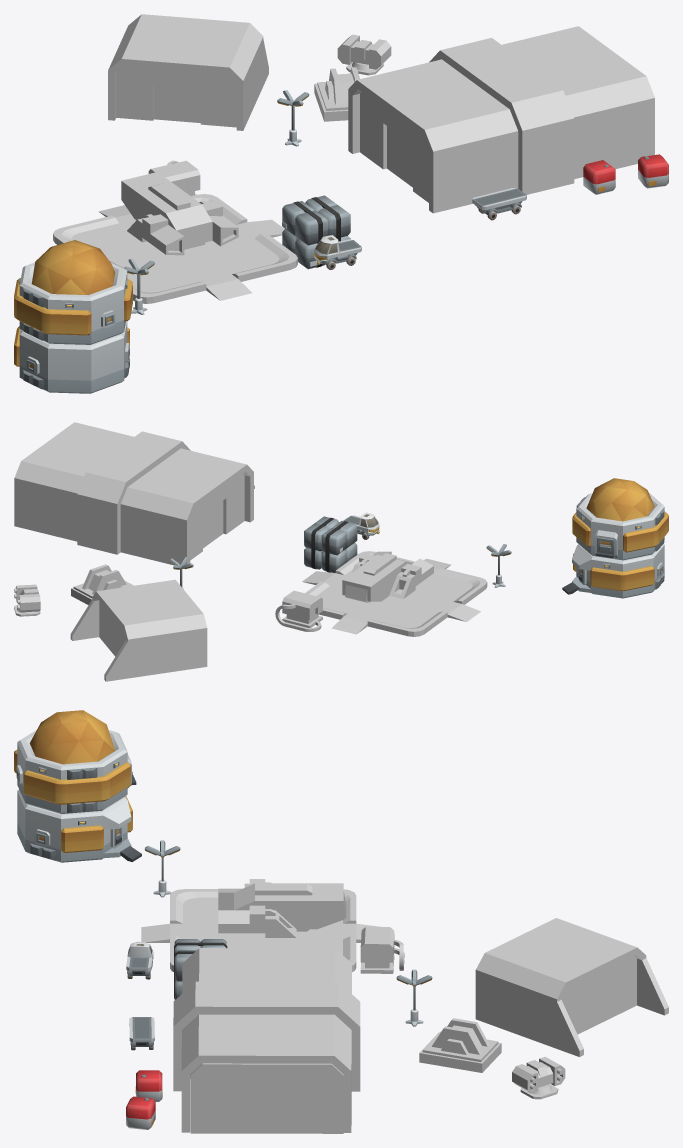
The model's file is Dock_5.glb.
3 views of the same model, one above another, from view 1: azimuth 30°, elevation 25°; view 2: azimuth 150°, elevation 25°; view 3: azimuth 270°, elevation 25° (orthographic). The views are drawn at different scales.
Visible parts, largest first — view 1: hangar_largeB, Plane, basemodule_E.001, hangar_smallB, gate.006, craft_cargoA, basemodule_A.001, gate.003, cargo_B_stacked.001, machine_generatorLarge, turret, spacetruck.001 (+5 smaller); view 2: hangar_largeB, hangar_smallB, Plane, basemodule_E.001, basemodule_A.001, craft_cargoA, gate.003, cargo_B_stacked.001, machine_generator, machine_generatorLarge, gate.007, turret (+1 smaller); view 3: hangar_largeB, hangar_smallB, gate.002, basemodule_E.001, Plane, craft_cargoA, basemodule_A.001, gate.007, machine_generatorLarge, machine_generator, turret, cargo_B_stacked.001 (+4 smaller).
Part boxes in pixels (box(x1,y1,x2,y2)): hangar_largeB: box(348, 26, 654, 213); Plane: box(53, 194, 297, 303); basemodule_E.001: box(14, 240, 132, 344); hangar_smallB: box(108, 14, 268, 130); gate.006: box(116, 65, 236, 127); craft_cargoA: box(121, 172, 238, 255); basemodule_A.001: box(14, 321, 129, 393); gate.003: box(360, 92, 428, 202); cargo_B_stacked.001: box(282, 195, 350, 269); machine_generatorLarge: box(314, 67, 359, 121); turret: box(337, 34, 391, 69); spacetruck.001: box(314, 235, 361, 269); hangar_largeB: box(14, 422, 253, 564); hangar_smallB: box(70, 579, 207, 681); Plane: box(302, 551, 487, 636); basemodule_E.001: box(572, 478, 668, 560); basemodule_A.001: box(562, 544, 664, 598); craft_cargoA: box(342, 551, 433, 602); gate.003: box(190, 474, 244, 560); cargo_B_stacked.001: box(304, 516, 357, 572); machine_generator: box(282, 590, 322, 627); machine_generatorLarge: box(71, 564, 133, 604); gate.007: box(99, 600, 125, 656); turret: box(14, 584, 40, 612); hangar_largeB: box(173, 948, 360, 1132); hangar_smallB: box(475, 918, 668, 1056); gate.002: box(190, 1063, 343, 1133); basemodule_E.001: box(14, 710, 136, 813); Plane: box(141, 883, 381, 971); craft_cargoA: box(218, 879, 346, 937); basemodule_A.001: box(17, 789, 141, 862); gate.007: box(561, 955, 636, 1034); machine_generatorLarge: box(419, 1018, 501, 1072); machine_generator: box(360, 926, 394, 973); turret: box(512, 1056, 565, 1093); cargo_B_stacked.001: box(174, 939, 227, 999).
Bounding box in the file's own units: 15.23 × 2.81 × 12.55.
Materials: 8 (7 with a texture image).
